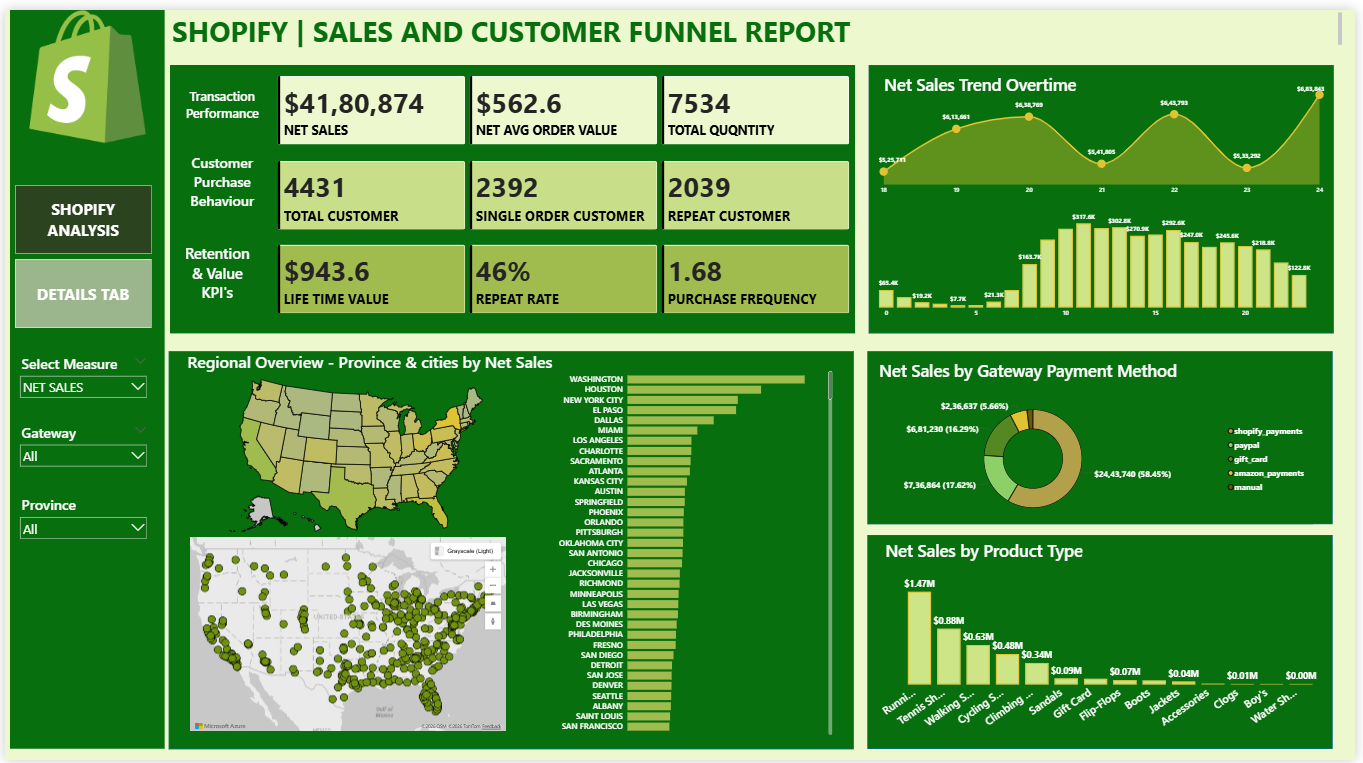

What the dashboard file says about the page in this screenshot:
{"tool":"powerbi","page":{"name":"SHOPIFY ANALYSIS","canvas":[2700,1500],"ordinal":0},"visuals":[{"type":"shape","box":[10.2,0,309.3,1477.5],"z":0},{"type":"textbox","box":[329.8,0,2349.2,79.2],"z":1000},{"type":"shape","box":[329.8,109.9,1370.2,536.8],"z":2000},{"type":"cardVisual","fields":{"Data":["shopify_sales.NET SALES","shopify_sales.NET AVG ORDER VALUE","shopify_sales.TOTAL QUQNTITY"]},"box":[527.6,116.1,1178.4,171.3],"z":3000},{"type":"cardVisual","fields":{"Data":["shopify_sales.TRANSACTION PERFORMANCE"]},"box":[329.8,109.9,209.6,155.9],"z":4000},{"type":"cardVisual","fields":{"Data":["shopify_sales.TOTAL CUSTOMER","shopify_sales.SINGLE ORDER CUSTOMER","shopify_sales.REPEAT CUSTOMER"]},"box":[527.6,284.8,1178.4,171.3],"z":5000},{"type":"cardVisual","fields":{"Data":["shopify_sales.Customer Purchase Behaviour"]},"box":[329.8,227.5,209.6,227.5],"z":6000},{"type":"cardVisual","fields":{"Data":["shopify_sales.Life Time Value","shopify_sales.REPEAT RATE","shopify_sales.PURCHASE FREQUENCY"]},"box":[527.6,453.5,1178.4,171.3],"z":7000},{"type":"cardVisual","fields":{"Data":["shopify_sales.Retention & Value KPI's"]},"box":[319.5,409,209.6,227.5],"z":8000},{"type":"shape","box":[328,682,1370,796],"z":9000},{"type":"shapeMap","fields":{"Value":["shopify_sales.NET SALES"],"Category":["shopify_sales.Billing Address Province"]},"box":[348,718,710,348],"z":10000},{"type":"slicer","fields":{"Values":["Select Measure.Select Measure"]},"box":[20,682,274,138],"z":11000},{"type":"azureMap","fields":{"Category":["shopify_sales.Location"]},"box":[364,1050,642,398],"z":12000},{"type":"clusteredBarChart","fields":{"Y":["shopify_sales.NET SALES"],"Category":["shopify_sales.CITY"]},"box":[1090,710,570,745],"z":13000},{"type":"cardVisual","fields":{"Data":["shopify_sales.Map Title"]},"box":[330,653.3,800,98.3],"z":14000},{"type":"shape","box":[1726.7,110,930,536.7],"z":15000},{"type":"areaChart","fields":{"Y":["shopify_sales.NET SALES"],"Category":["shopify_sales.Invoice Date.Variation.Date Hierarchy.Day"]},"box":[1741.7,140,901.7,238.3],"z":16000},{"type":"columnChart","fields":{"Y":["shopify_sales.NET SALES"],"Category":["shopify_sales.hour"]},"box":[1741.7,390,901.7,235],"z":17000},{"type":"cardVisual","fields":{"Data":["shopify_sales.TREND TITLE"]},"box":[1686.7,93.3,526.7,108.3],"z":18000},{"type":"shape","box":[1726,682,930,346],"z":19000},{"type":"donutChart","fields":{"Y":["shopify_sales.NET SALES"],"Category":["shopify_sales.Gateway"]},"box":[1662,768,950,260],"z":20000},{"type":"cardVisual","fields":{"Data":["shopify_sales.GATEWAY TITLE"]},"box":[1686,670,722,98],"z":21000},{"type":"shape","box":[1726,1050,930,428],"z":22000},{"type":"columnChart","fields":{"Y":["shopify_sales.NET SALES"],"Category":["shopify_sales.Product Type"]},"box":[1742,1114,902,334],"z":23000},{"type":"cardVisual","fields":{"Data":["shopify_sales.Product TITLE"]},"box":[1686,1030,546,98],"z":24000},{"type":"image","box":[10,0,310,266],"z":25000},{"type":"slicer","fields":{"Values":["shopify_sales.Gateway"]},"box":[20,820,274,122],"z":26000},{"type":"slicer","fields":{"Values":["shopify_sales.Billing Address Province"]},"box":[20,964,274,136],"z":27000},{"type":"pageNavigator","box":[20.5,350.2,273.5,286.3],"z":27001}]}

Visuals, with their boxes in screenshot pixels (x1, y1, x2, y2), scaled from the page's 2700x1500 canvas onto the 1363x763 screenshot:
shape: Rect(5, 0, 161, 752)
textbox: Rect(166, 0, 1352, 40)
shape: Rect(166, 56, 858, 329)
cardVisual - shopify_sales.NET SALES x shopify_sales.NET AVG ORDER VALUE: Rect(266, 59, 861, 146)
cardVisual - shopify_sales.TRANSACTION PERFORMANCE: Rect(166, 56, 272, 135)
cardVisual - shopify_sales.TOTAL CUSTOMER x shopify_sales.SINGLE ORDER CUSTOMER: Rect(266, 145, 861, 232)
cardVisual - shopify_sales.Customer Purchase Behaviour: Rect(166, 116, 272, 231)
cardVisual - shopify_sales.Life Time Value x shopify_sales.REPEAT RATE: Rect(266, 231, 861, 318)
cardVisual - shopify_sales.Retention & Value KPI's: Rect(161, 208, 267, 324)
shape: Rect(166, 347, 857, 752)
shapeMap - shopify_sales.NET SALES x shopify_sales.Billing Address Province: Rect(176, 365, 534, 542)
slicer - Select Measure.Select Measure: Rect(10, 347, 148, 417)
azureMap - shopify_sales.Location: Rect(184, 534, 508, 737)
clusteredBarChart - shopify_sales.NET SALES x shopify_sales.CITY: Rect(550, 361, 838, 740)
cardVisual - shopify_sales.Map Title: Rect(167, 332, 570, 382)
shape: Rect(872, 56, 1341, 329)
areaChart - shopify_sales.NET SALES x shopify_sales.Invoice Date.Variation.Date Hierarchy.Day: Rect(879, 71, 1334, 192)
columnChart - shopify_sales.NET SALES x shopify_sales.hour: Rect(879, 198, 1334, 318)
cardVisual - shopify_sales.TREND TITLE: Rect(851, 47, 1117, 103)
shape: Rect(871, 347, 1341, 523)
donutChart - shopify_sales.NET SALES x shopify_sales.Gateway: Rect(839, 391, 1319, 523)
cardVisual - shopify_sales.GATEWAY TITLE: Rect(851, 341, 1216, 391)
shape: Rect(871, 534, 1341, 752)
columnChart - shopify_sales.NET SALES x shopify_sales.Product Type: Rect(879, 567, 1335, 737)
cardVisual - shopify_sales.Product TITLE: Rect(851, 524, 1127, 574)
image: Rect(5, 0, 162, 135)
slicer - shopify_sales.Gateway: Rect(10, 417, 148, 479)
slicer - shopify_sales.Billing Address Province: Rect(10, 490, 148, 560)
pageNavigator: Rect(10, 178, 148, 324)
